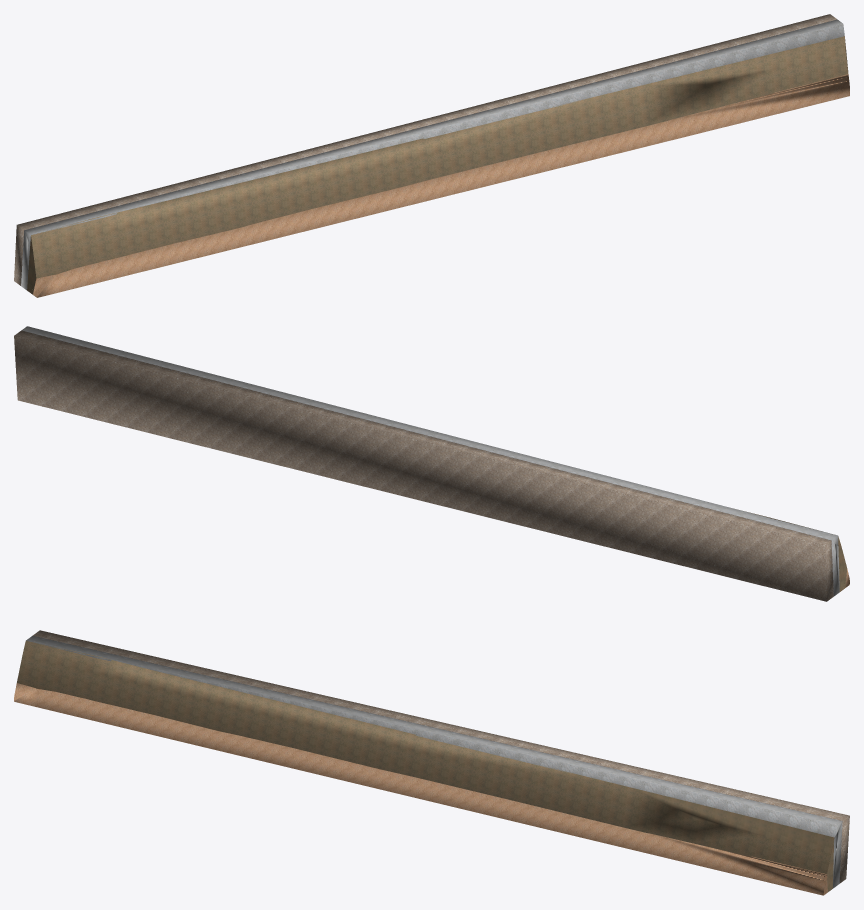
The picture shows the model from 3 angles, top to bottom: view 1: azimuth 30°, elevation 25°; view 2: azimuth 150°, elevation 25°; view 3: azimuth 330°, elevation 25°; orthographic projection.
Visible parts, largest first — view 1: fenzhinaintu01, sutiantu01, yunizhinaintu01, fensayan01; view 2: fensayan01, yunizhinaintu01; view 3: fenzhinaintu01, sutiantu01, yunizhinaintu01, fensayan01.
Boxes of the visible parts, x1,y1,x2,y2 form: fenzhinaintu01: (27,36,848,294); sutiantu01: (33,74,849,297); yunizhinaintu01: (21,19,844,290); fensayan01: (14,14,836,285); fensayan01: (14,330,833,601); yunizhinaintu01: (21,326,839,596); fenzhinaintu01: (17,640,834,891); sutiantu01: (14,683,827,895); yunizhinaintu01: (26,635,842,888); fensayan01: (33,630,849,883).
Bounding box in the file's own units: 167 × 13.26 × 8.31.
Materials: 4 (4 with a texture image).
